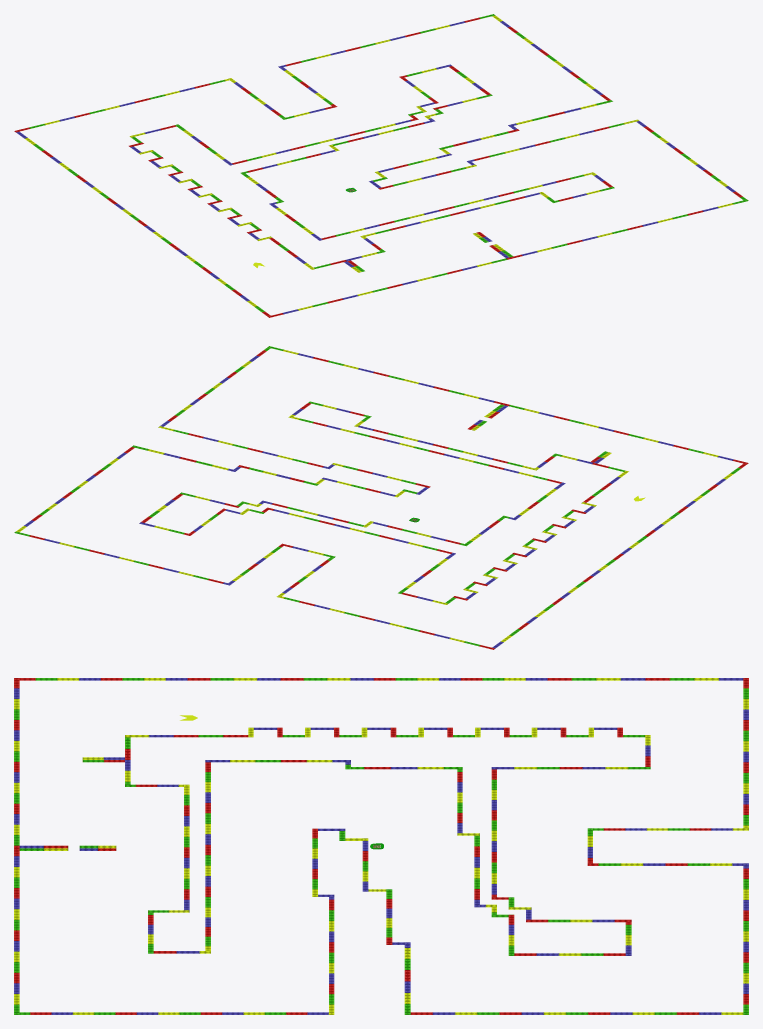
Rendered from MarioKart_Map_Test.dae.
3 renders of one model, top to bottom at view 1: azimuth 30°, elevation 25°; view 2: azimuth 150°, elevation 25°; view 3: azimuth 270°, elevation 25°, orthographic. The views are drawn at different scales.
Visible parts, largest first — view 1: polygon1; view 2: polygon1; view 3: polygon1.
Part boxes in pixels (left/top/right/bottom): polygon1: left=14, top=14, right=748, bottom=317; polygon1: left=14, top=346, right=748, bottom=649; polygon1: left=14, top=678, right=748, bottom=1014.
Size of the model in its own units: 41689 by 38435 by 1291.
